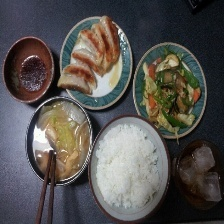rice: (94, 122, 164, 211)
